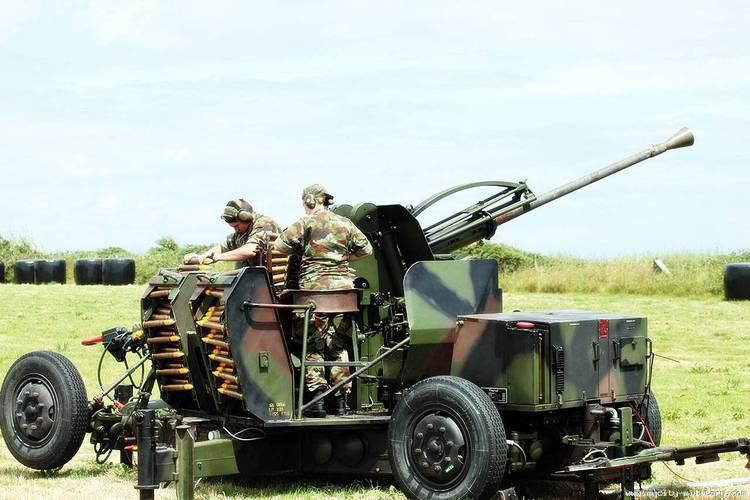MIL_SPG: (0, 129, 750, 499)
